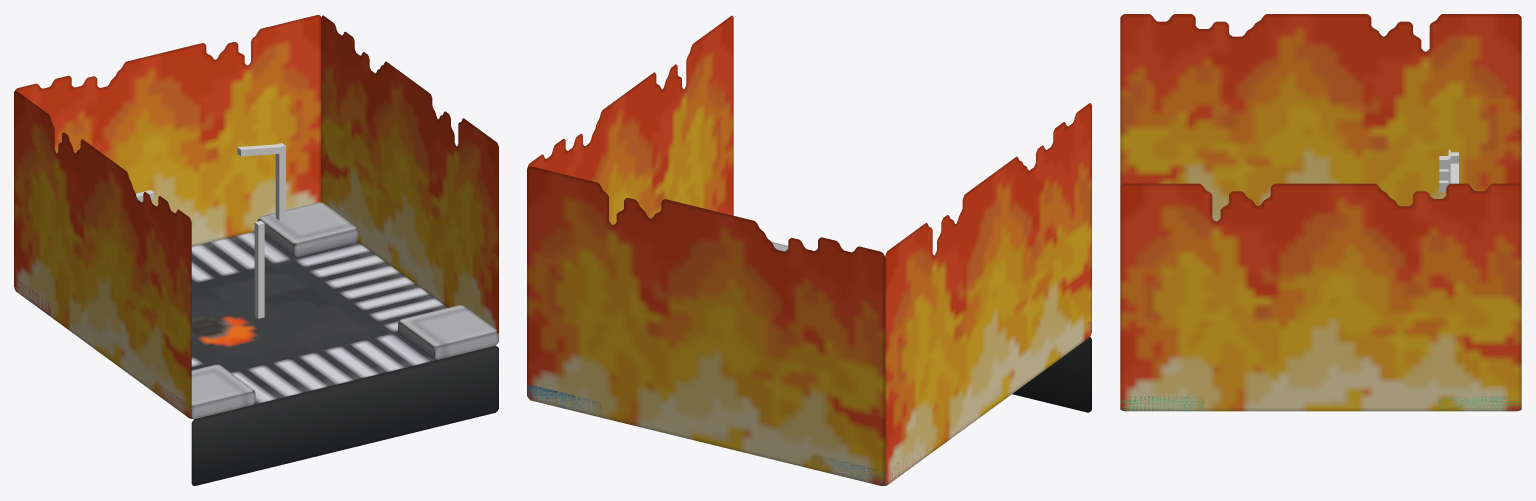
Rendered from cross.fbx.
3 views of the same model, side by side, from view 1: azimuth 30°, elevation 25°; view 2: azimuth 150°, elevation 25°; view 3: azimuth 270°, elevation 25° (orthographic). The views are drawn at different scales.
Parts seen in each view (by area): view 1: floor, cube_1, cube_3, cube_2, cube_7, cube_8, cube_6, cube, cube_4; view 2: cube_1, cube_3, cube_2, floor, cube_8, cube_5; view 3: cube_2, cube_3, cube_7, cube_8.
Boxes of the visible parts, <box> form: floor: <box>190,231,498,485</box>; cube_1: <box>15,15,321,246</box>; cube_3: <box>14,90,191,418</box>; cube_2: <box>321,15,498,334</box>; cube_7: <box>398,305,498,359</box>; cube_8: <box>257,202,358,256</box>; cube_6: <box>154,364,255,419</box>; cube: <box>237,143,285,220</box>; cube_4: <box>254,221,264,318</box>; cube_1: <box>527,166,885,485</box>; cube_3: <box>885,103,1091,484</box>; cube_2: <box>527,15,733,224</box>; floor: <box>882,337,1091,485</box>; cube_8: <box>527,385,601,416</box>; cube_5: <box>811,448,927,485</box>; cube_2: <box>1120,183,1521,411</box>; cube_3: <box>1120,14,1521,221</box>; cube_7: <box>1120,396,1203,410</box>; cube_8: <box>1438,396,1521,410</box>.
Bounding box in the file's own units: 300 × 250 × 300.
2 materials, 2 textured.
